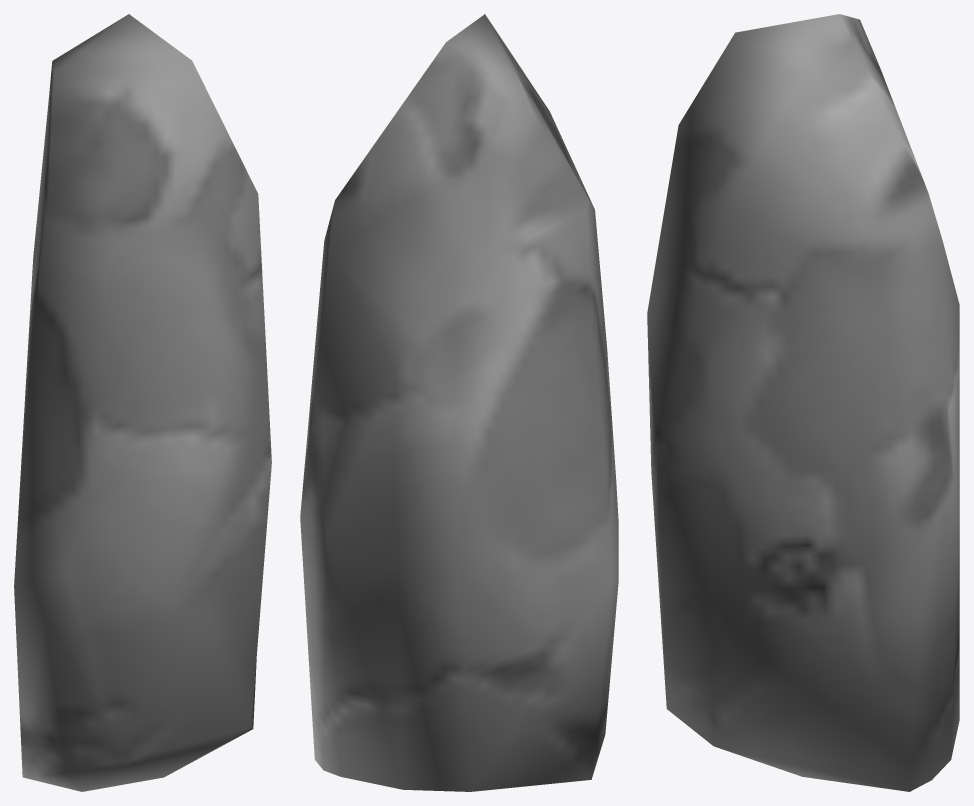
The model's file is Rock_5.fbx.
The picture shows the model from 3 angles, left to right: view 1: azimuth 30°, elevation 25°; view 2: azimuth 150°, elevation 25°; view 3: azimuth 270°, elevation 25°; orthographic projection. The views are drawn at different scales.
Visible parts, largest first — view 1: Rock_5; view 2: Rock_5; view 3: Rock_5.
Boxes of the visible parts, x1,y1,x2,y2 form: Rock_5: (14,14,271,791); Rock_5: (300,14,618,791); Rock_5: (647,14,959,791).
Size of the model in its own units: 21.97 by 61.92 by 23.64.
